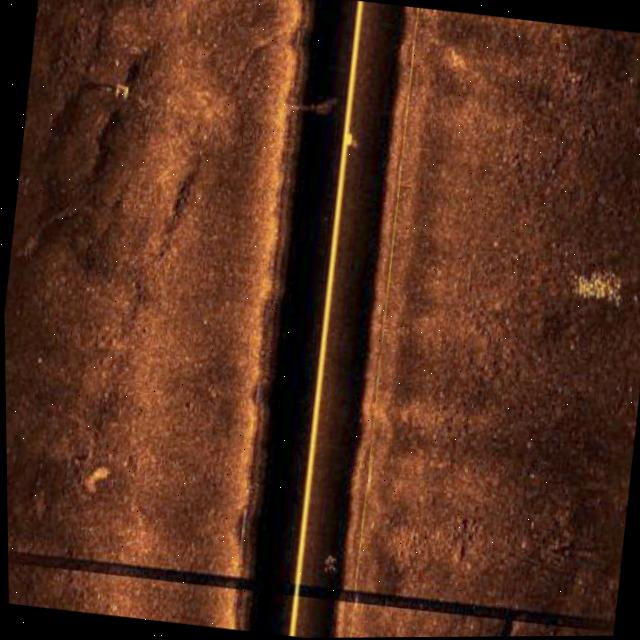mine: (106, 78, 132, 104)
